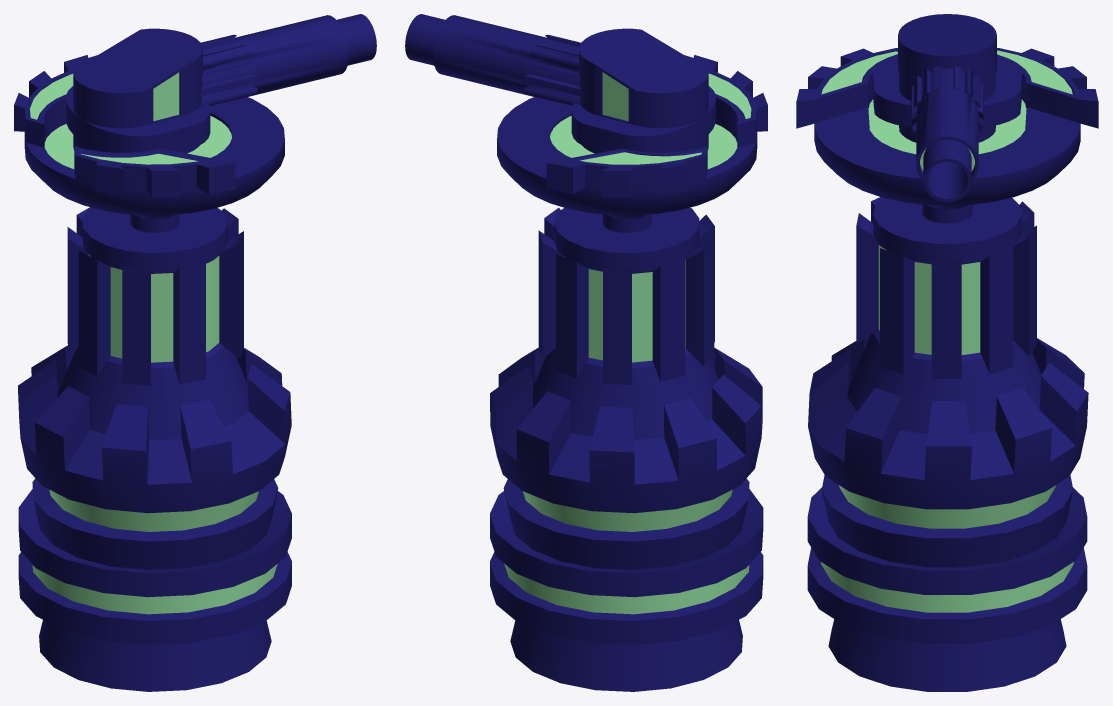
File: SimpleTower.fbx
3 renders of one model, left to right at view 1: azimuth 30°, elevation 25°; view 2: azimuth 150°, elevation 25°; view 3: azimuth 270°, elevation 25°, orthographic. The views are drawn at different scales.
Parts seen in each view (by area): view 1: Base, Cannon; view 2: Base, Cannon; view 3: Base, Cannon.
Part boxes in pixels (x1,y1,x2,y2): Base: [18, 207, 291, 691]; Cannon: [14, 14, 376, 215]; Base: [490, 207, 763, 691]; Cannon: [405, 14, 767, 215]; Base: [807, 197, 1088, 691]; Cannon: [796, 14, 1098, 205].
Bounding box in the file's own units: 325 × 560 × 253.
